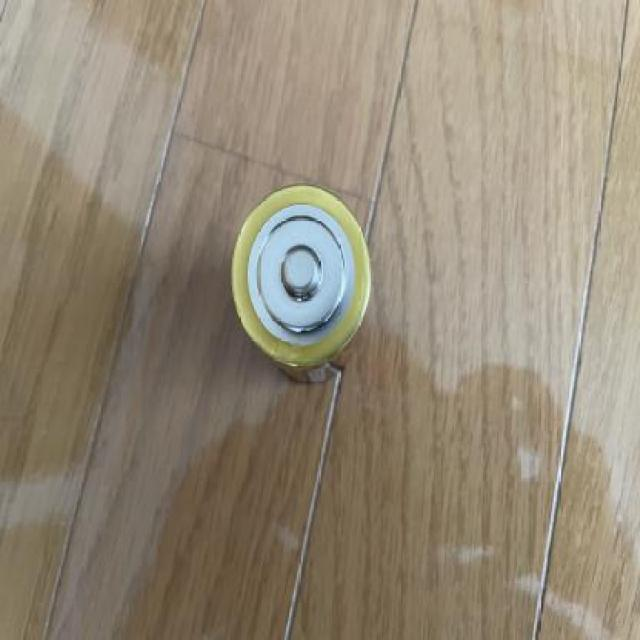hazardous waste: (234, 180, 371, 388)
